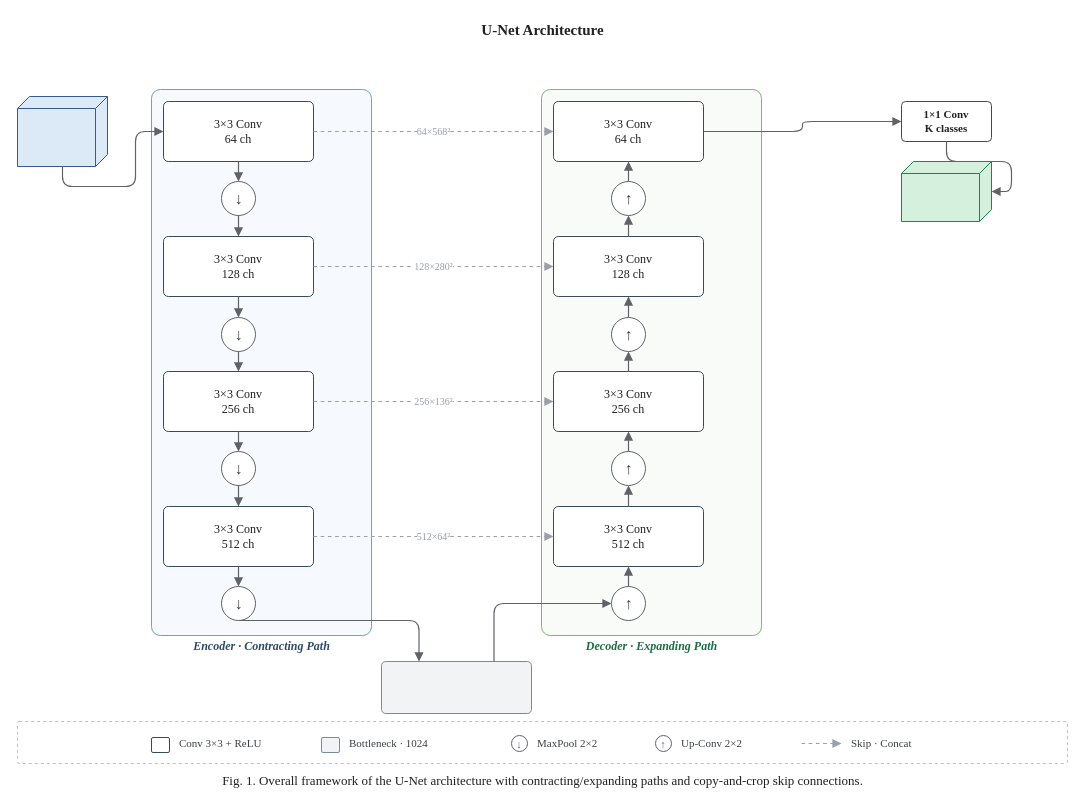
Image size: 1085x806. Some labels were removed from this diagram. Each missing label, with the centre of its shape:
"Bottleneck 3×3 Conv · 1024 ch" belongs at [456,687].
"Input 1×572×572" belongs at [62,131].
"Seg. Map" belongs at [946,191].
